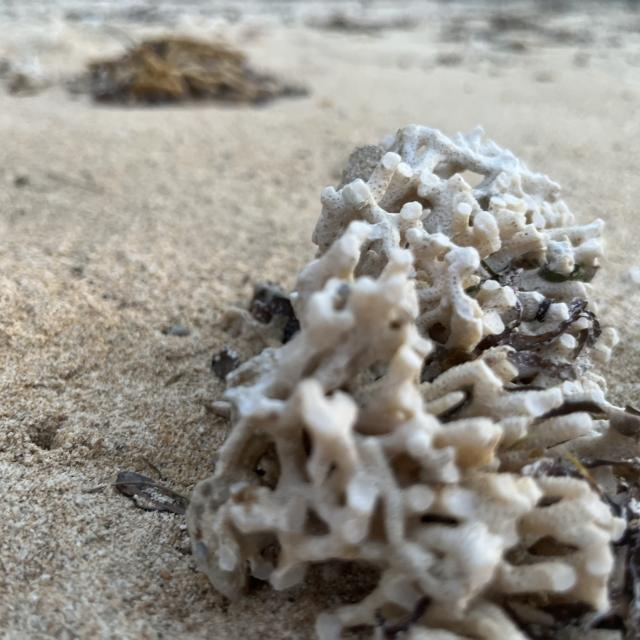coral: (181, 123, 625, 640)
